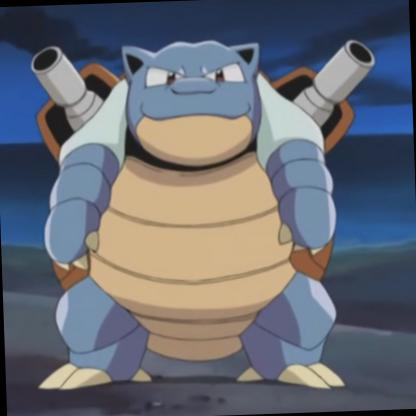Blastoise: (2, 1, 416, 416)
